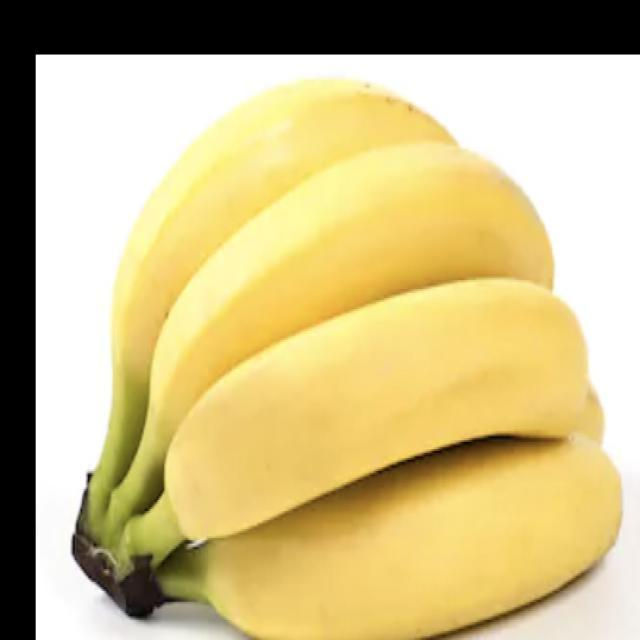Banana: (71, 77, 622, 638)
